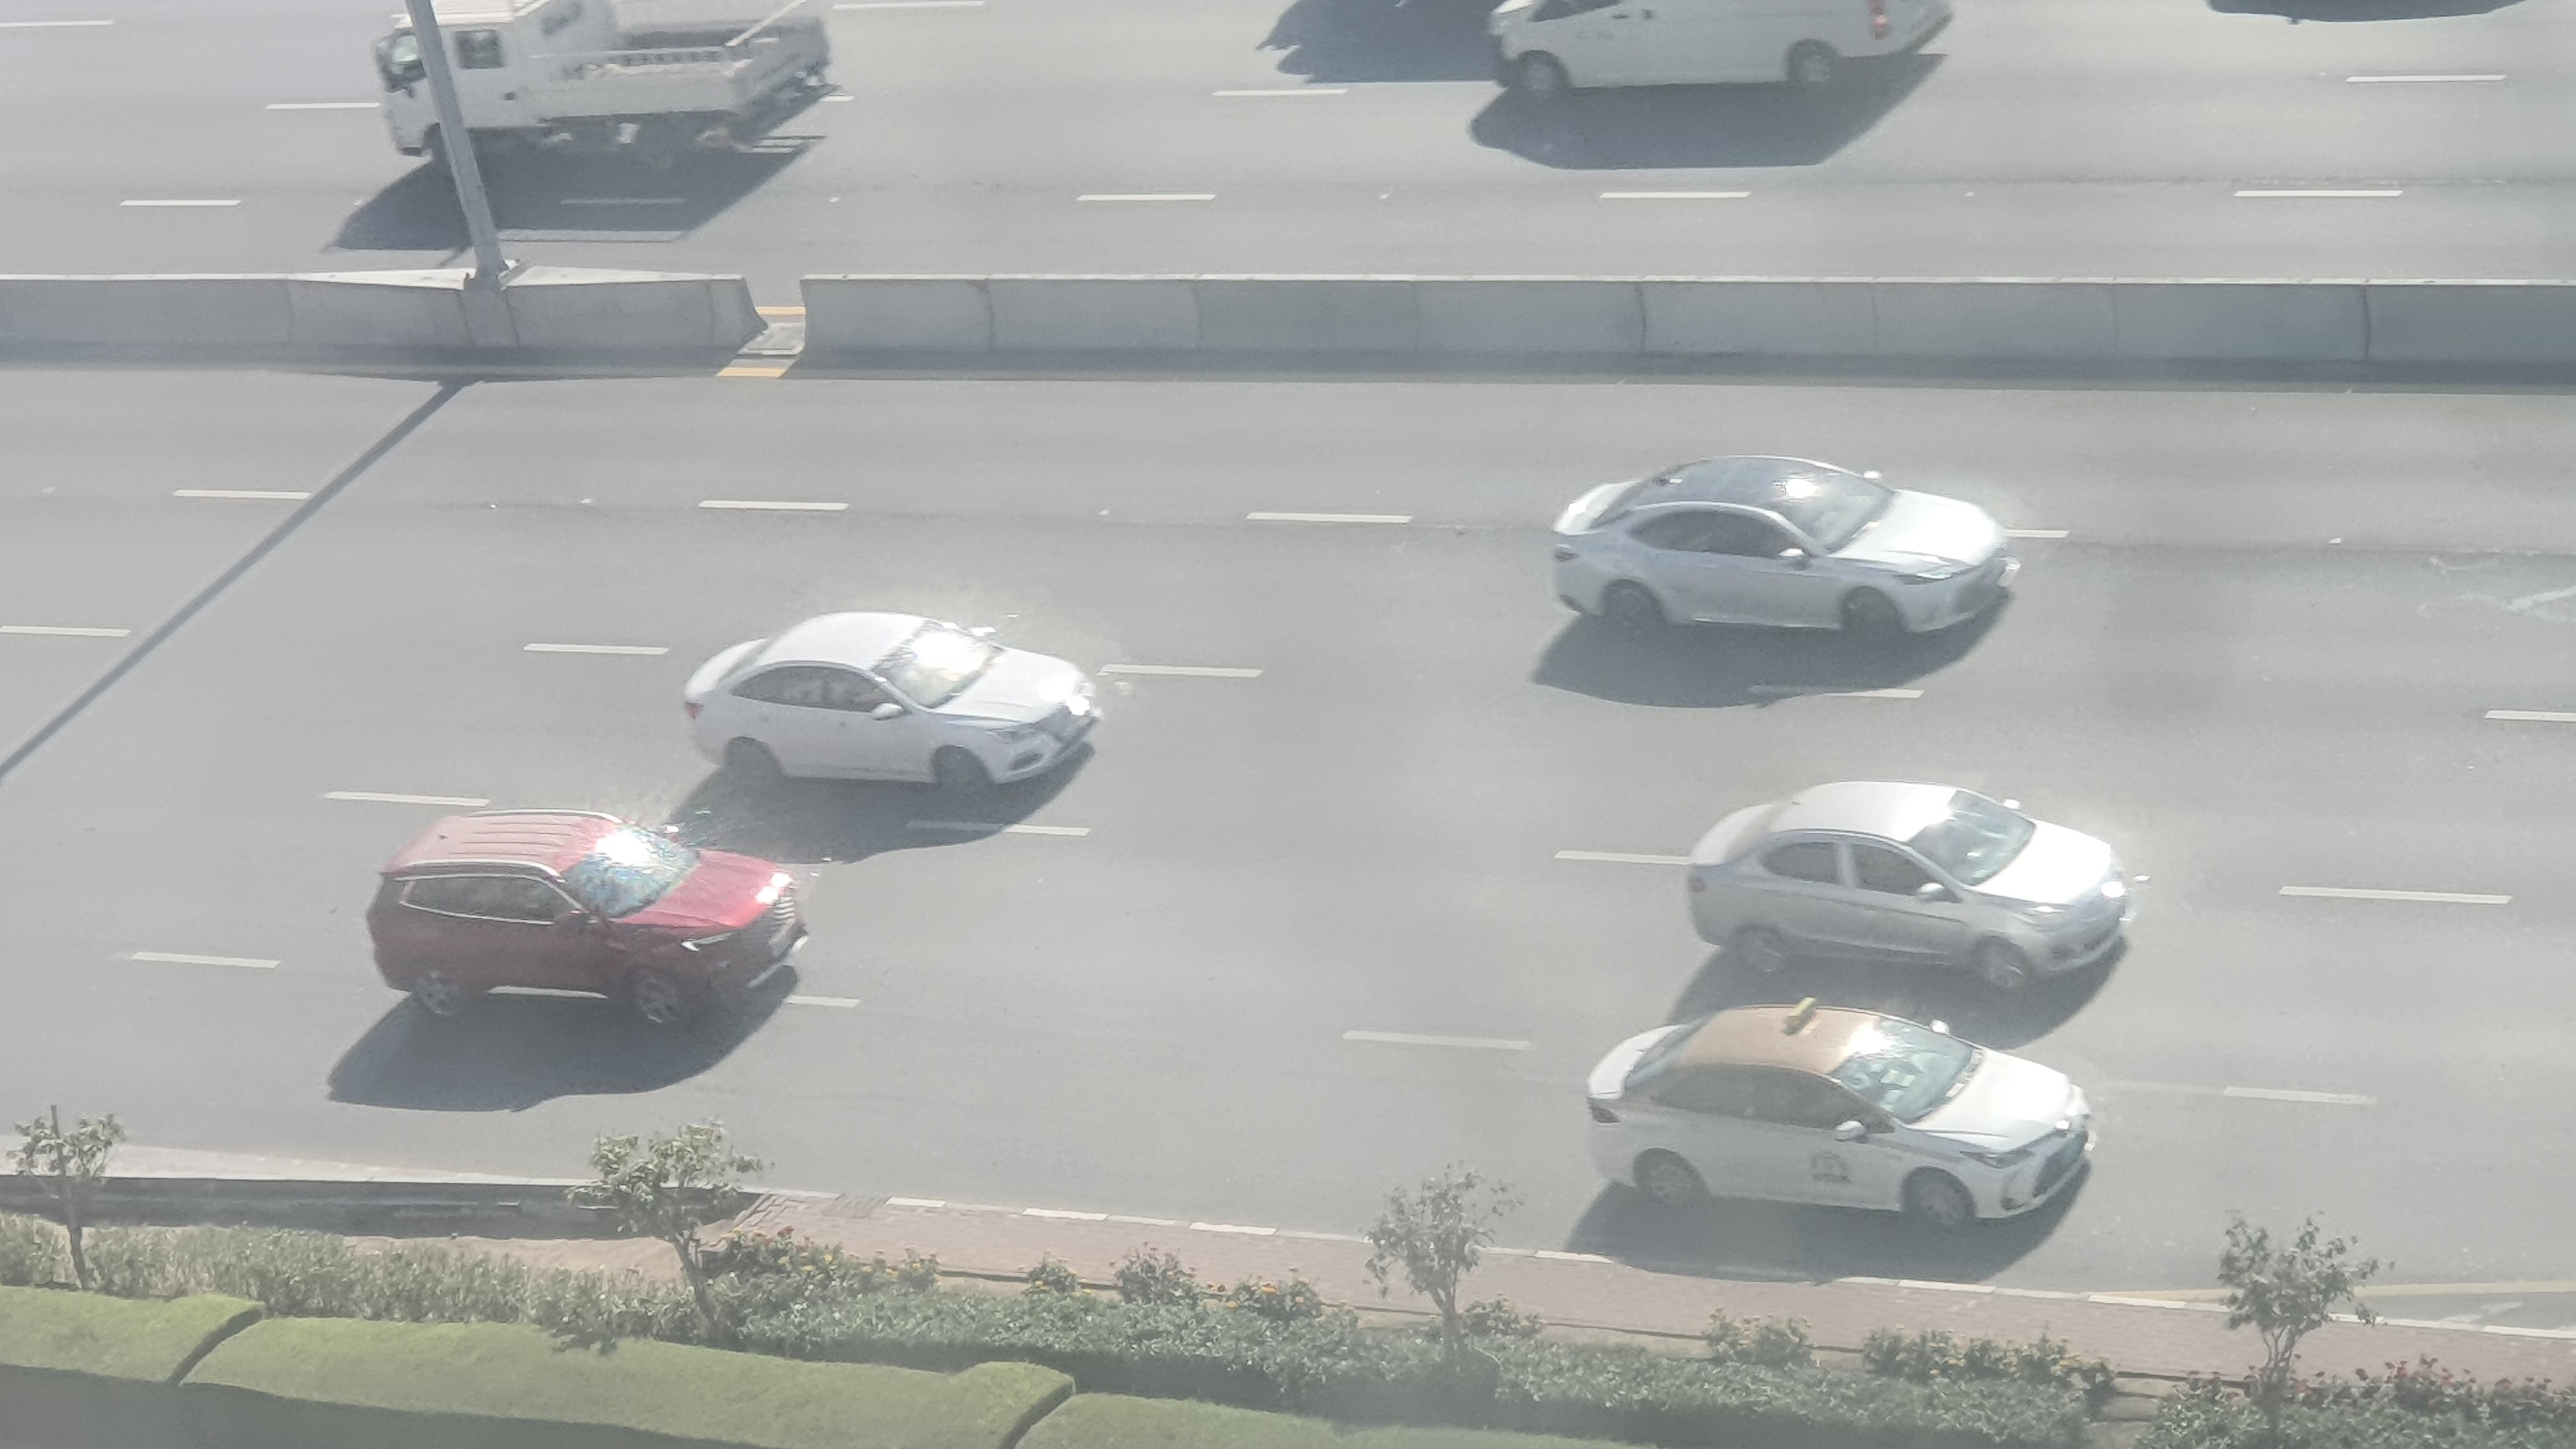NotSunroof: (1592, 1005, 2104, 1233), (364, 801, 816, 1030), (1683, 773, 2134, 991), (683, 609, 1104, 803)
Sunroof: (1555, 439, 2020, 651)
